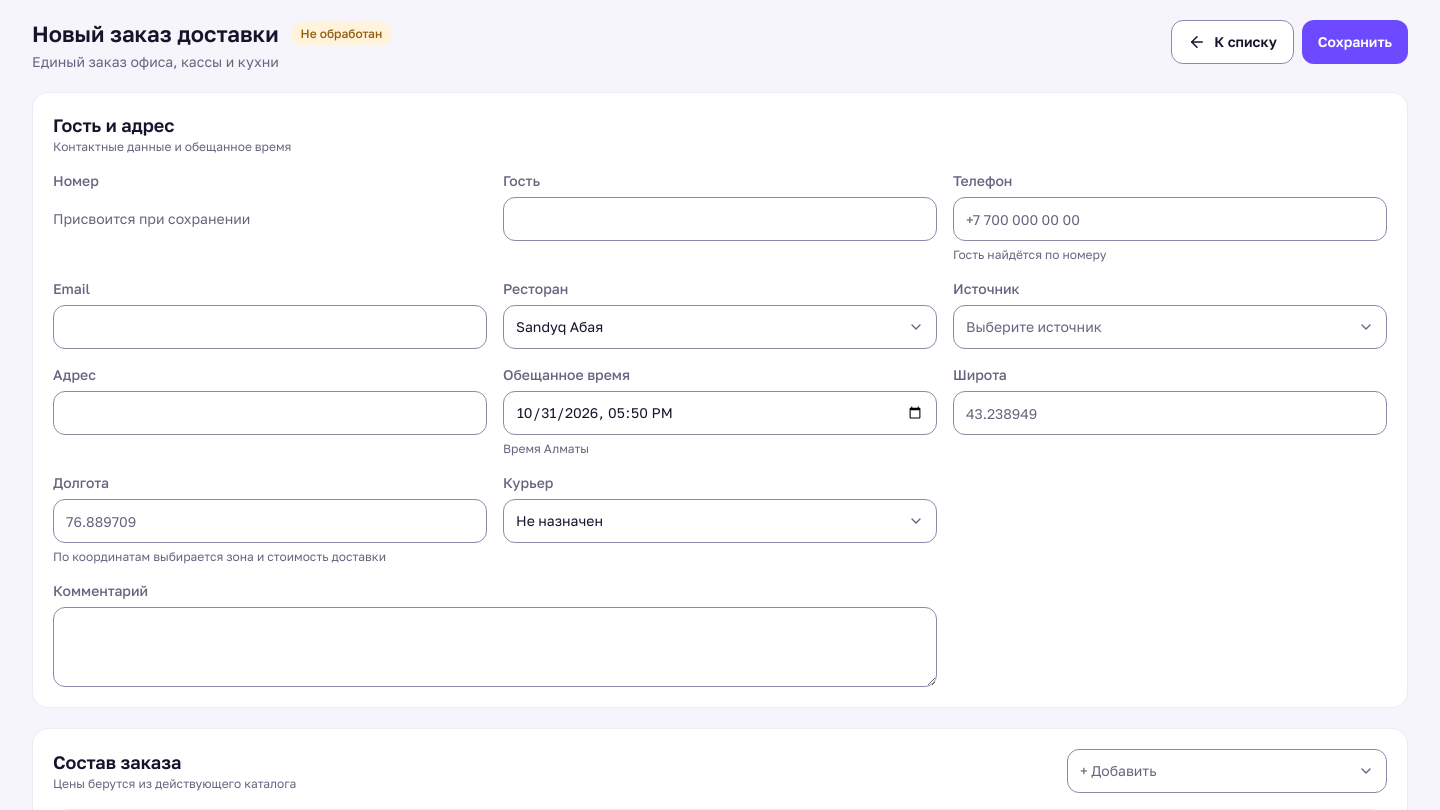
Test: «Колл-центр» (W2-DLV-04, office/62) › does not save a new order with missing guest data
Click the button "Сохранить".
click(1355, 42)  # box [1302,20,1408,64]
(page scrolled)
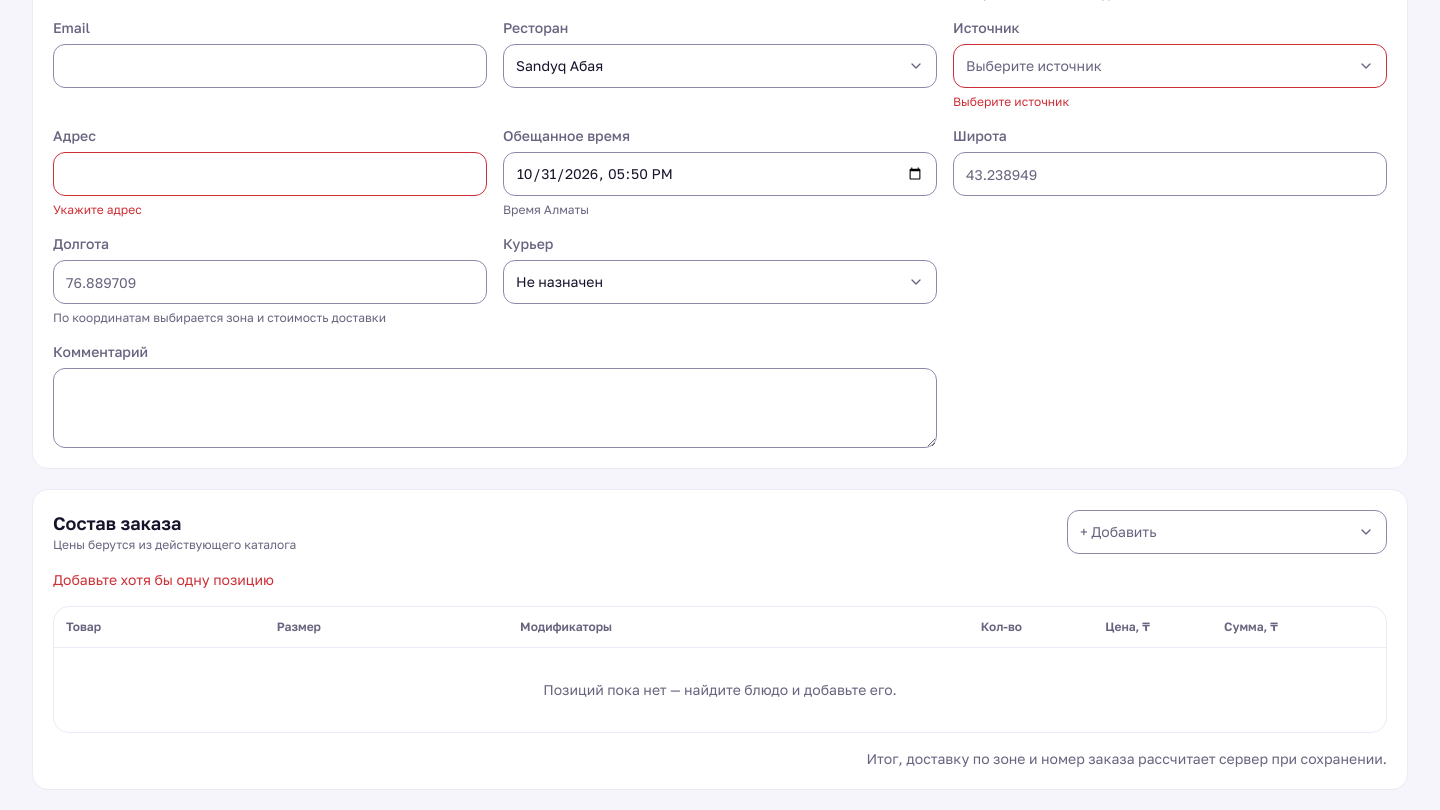
Expected: the text "Добавьте хотя бы одну позицию" is shown, [53,571,274,588]
